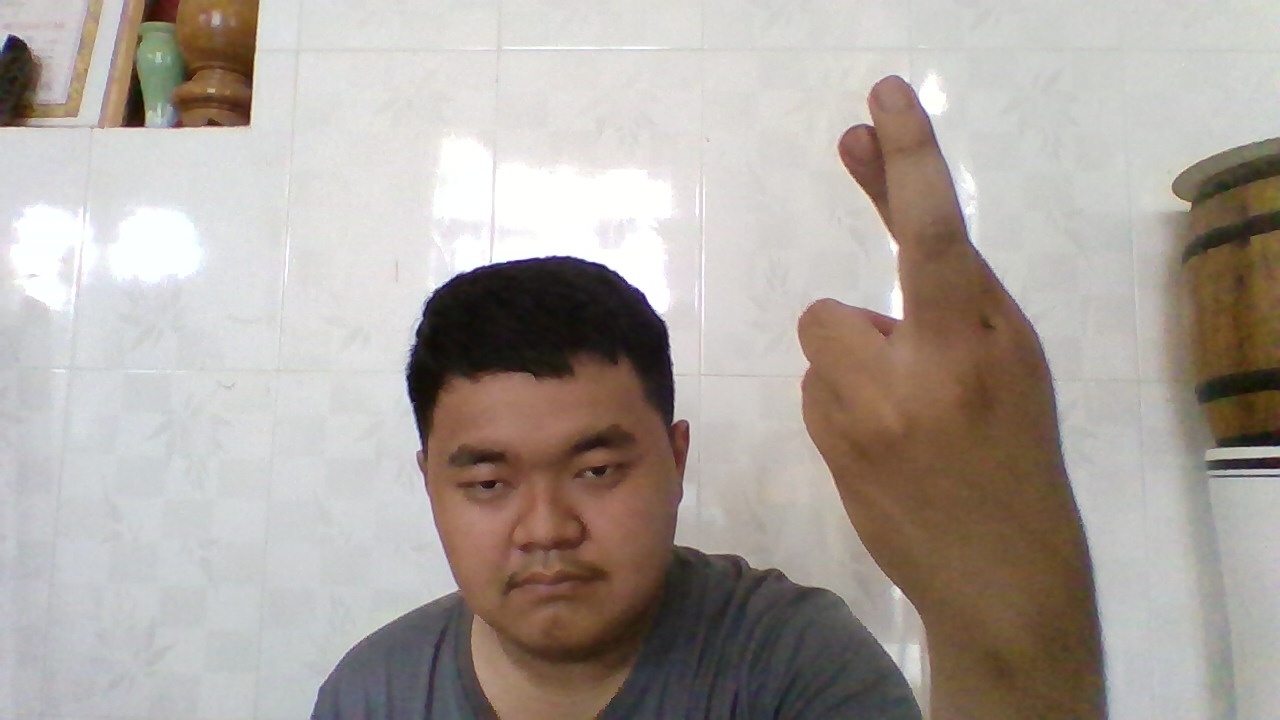R: (798, 79, 1074, 617)
